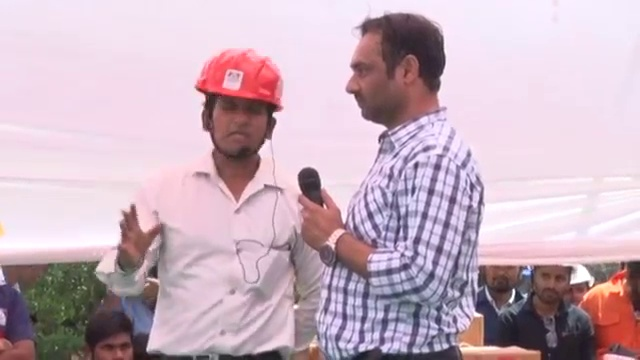helmet: (196, 47, 283, 109), (568, 264, 596, 289)
helmet_off: (346, 17, 447, 129), (81, 306, 140, 360), (529, 261, 579, 309), (618, 259, 640, 316), (485, 263, 519, 295)
helmet_on: (196, 44, 282, 172), (567, 265, 596, 310)
person: (106, 42, 327, 357), (301, 5, 486, 360), (492, 264, 594, 355), (583, 262, 640, 360), (469, 260, 533, 342), (0, 274, 34, 358)
